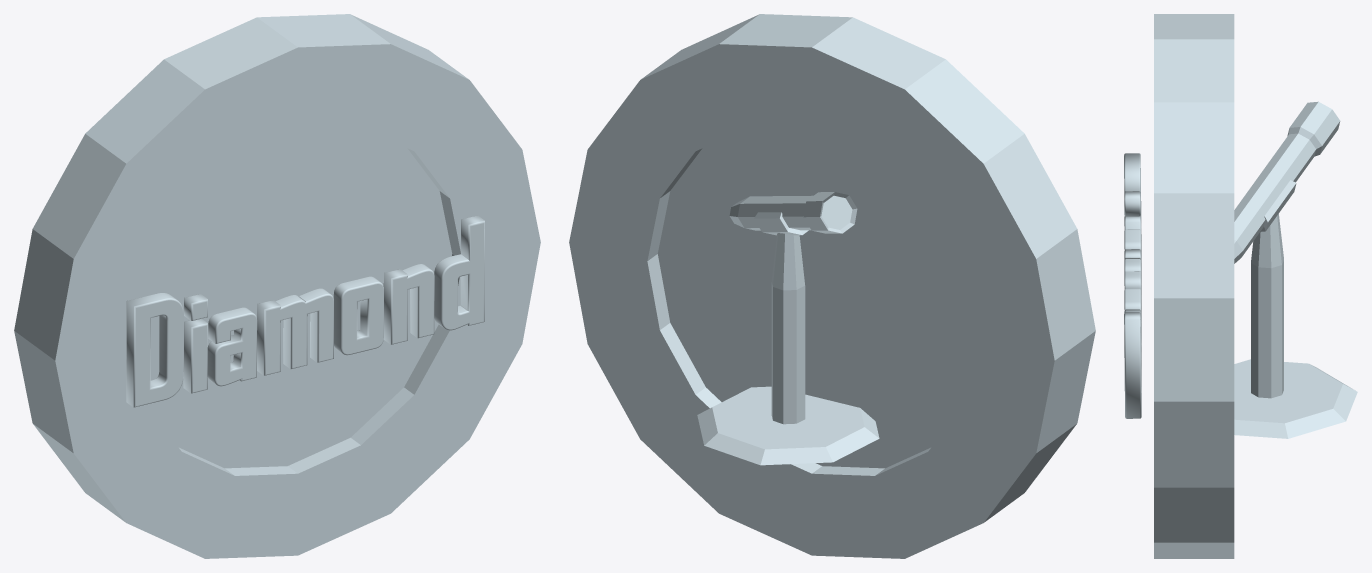
The model's file is Diamond_Vocal.glb.
The picture shows the model from 3 angles, left to right: view 1: azimuth 30°, elevation 25°; view 2: azimuth 150°, elevation 25°; view 3: azimuth 270°, elevation 25°; orthographic projection. The views are drawn at different scales.
Visible parts, largest first — view 1: bitcoin, Diamond Text; view 2: bitcoin, Microphone; view 3: bitcoin, Microphone, Diamond Text.
Boxes of the visible parts, x1=… form: bitcoin: x1=14, y1=14, x2=540, y2=558; Diamond Text: x1=126, y1=215, x2=484, y2=407; bitcoin: x1=569, y1=14, x2=1095, y2=558; Microphone: x1=697, y1=192, x2=879, y2=465; bitcoin: x1=1154, y1=14, x2=1234, y2=558; Microphone: x1=1234, y1=101, x2=1357, y2=438; Diamond Text: x1=1124, y1=153, x2=1141, y2=418.
Size of the model in its own units: 0.987 by 0.987 by 0.4229.
